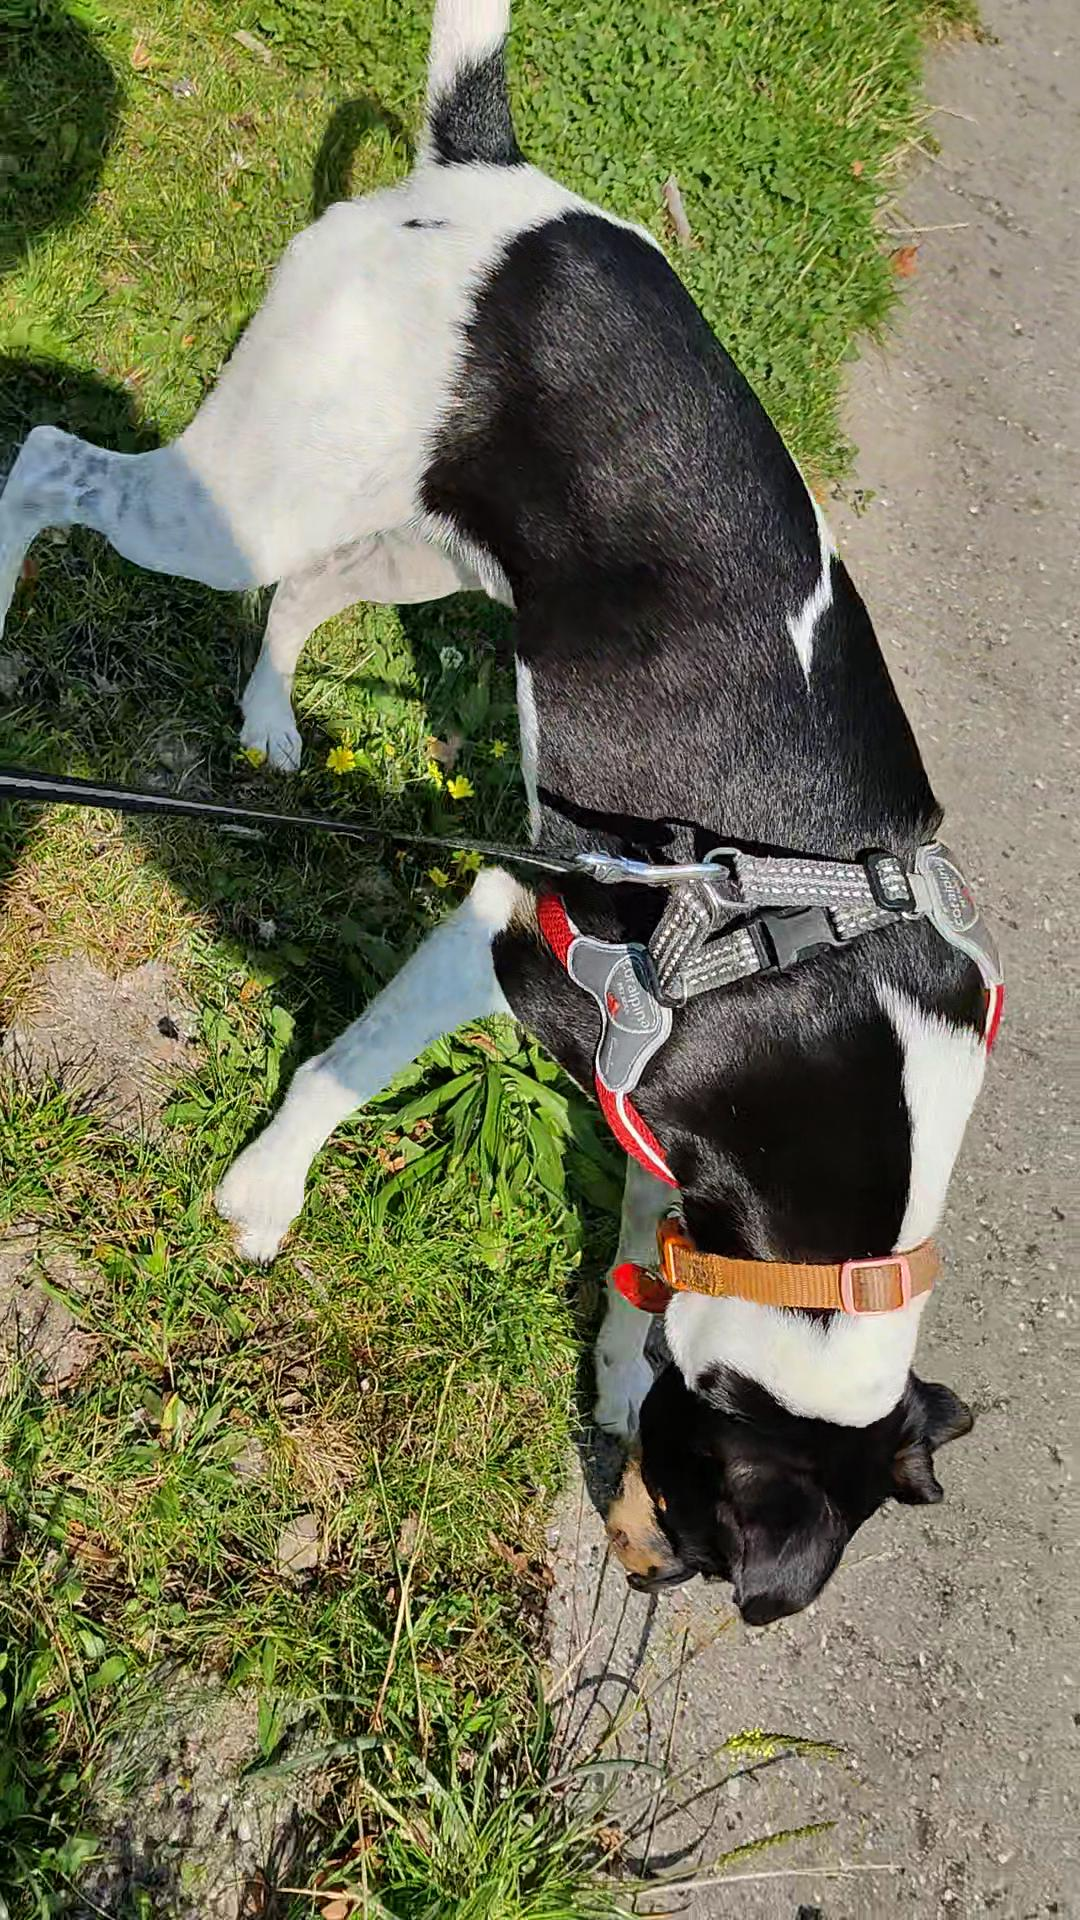Dog: (0, 0, 1014, 1634)
